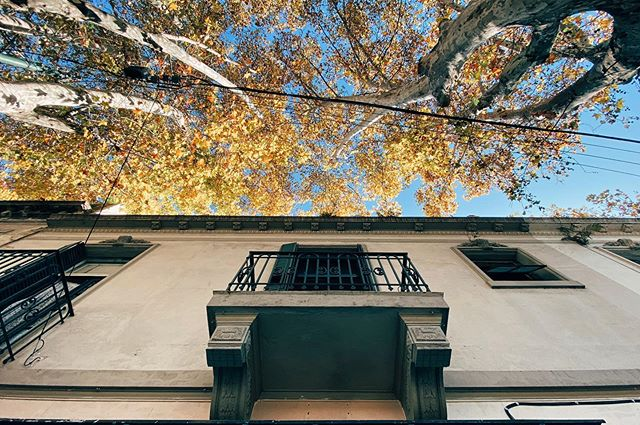building: (5, 209, 640, 425), (1, 1, 635, 205)
